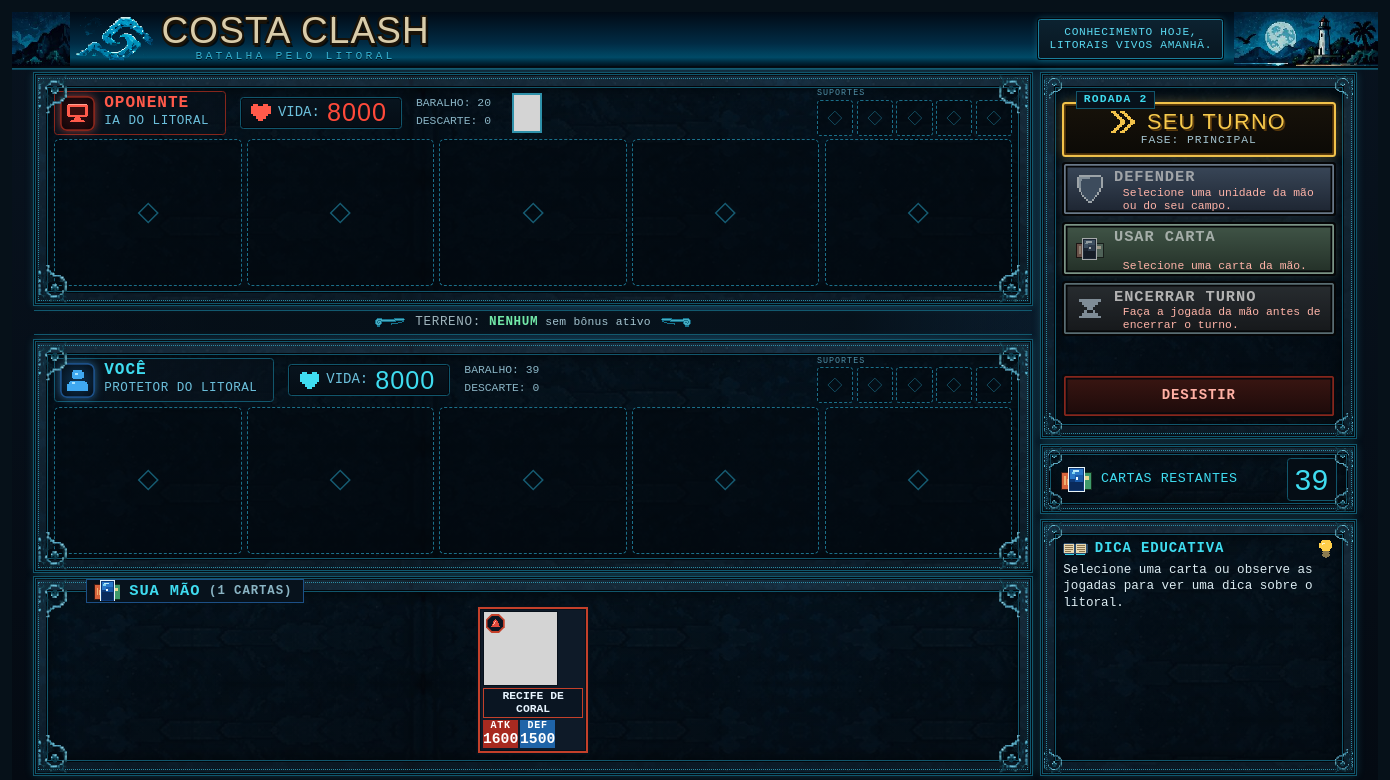
it: Arrastar: unidade para zona livre › fora do campo (nenhum destino): cancela com motivo curto e sem alterar o estado
Press the mouse on the button with aria-label "Mão 1:" at (533, 680), box [478,607,588,753]
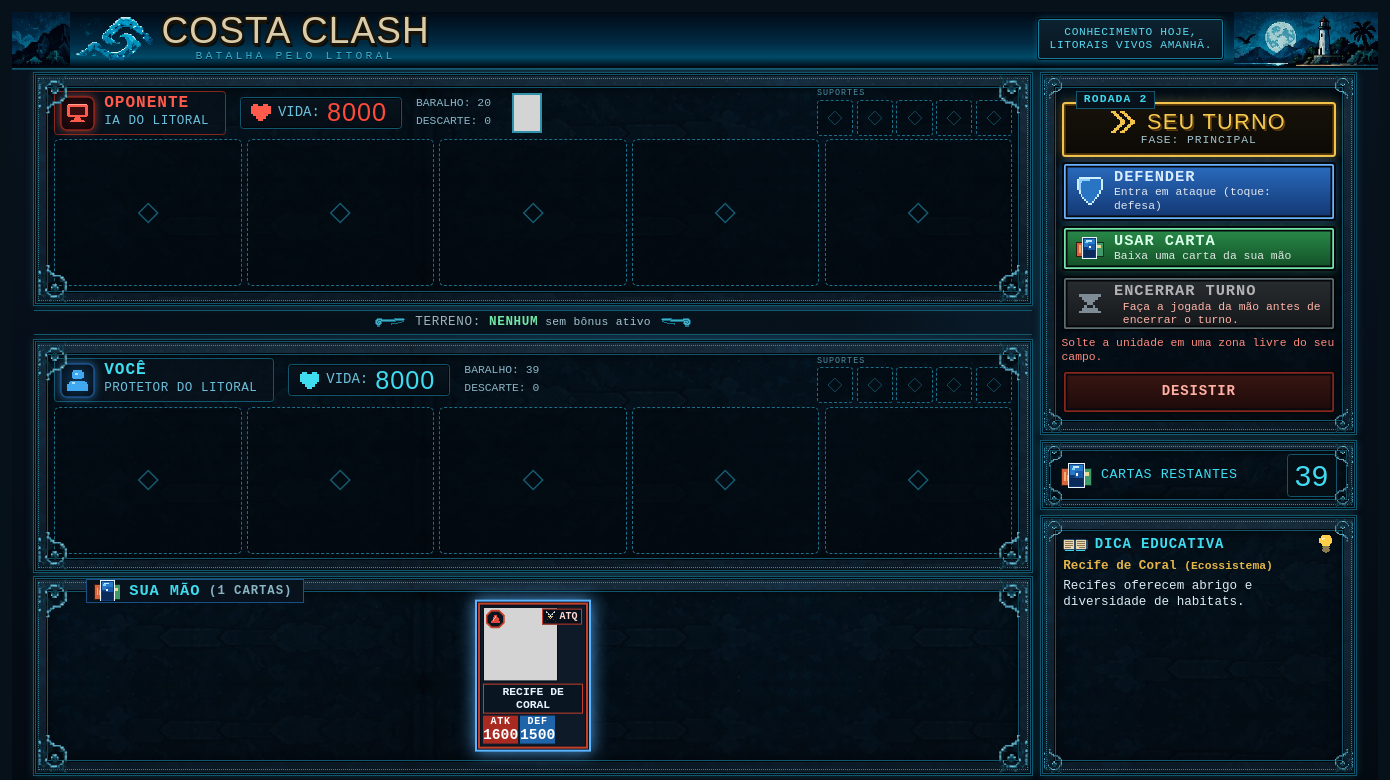
Now the message with class "duelo-aviso" reads "Solte a unidade em uma zona livre do seu campo.", box [1062,337,1334,363]
